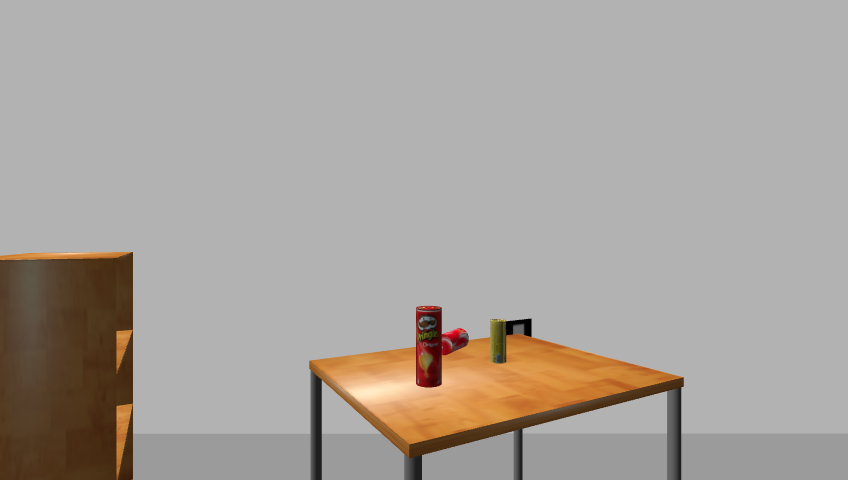aruco marker: (500, 317, 536, 342)
biscuits pack: (490, 319, 508, 365)
bookshelf: (0, 250, 142, 480)
coke can: (439, 327, 469, 357)
dinner table: (300, 336, 692, 479)
pringles can: (413, 305, 445, 389)
